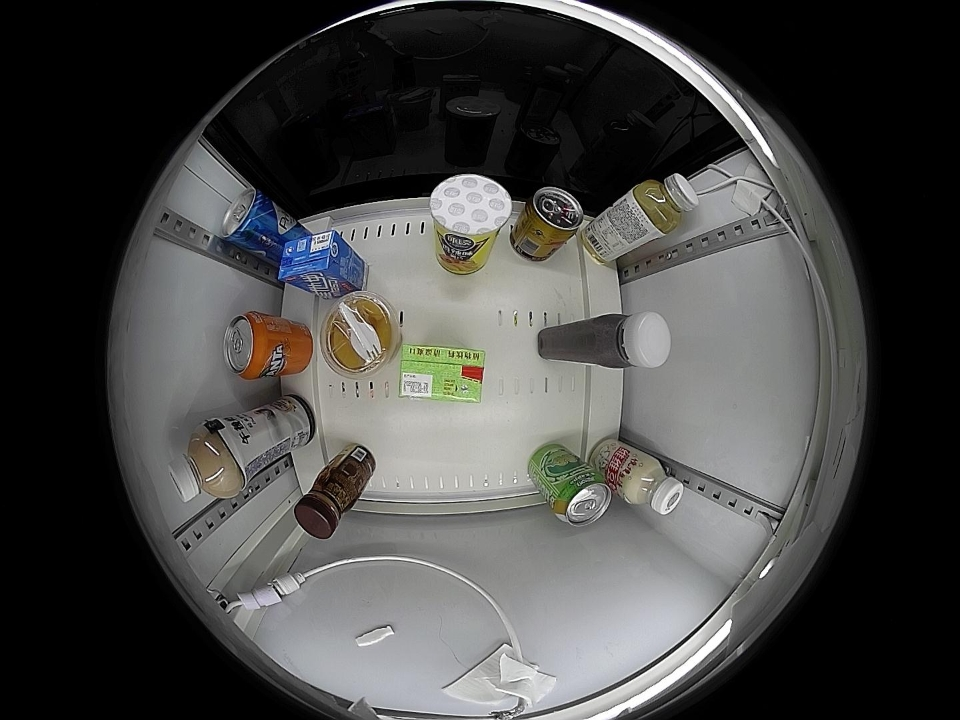chapai2: (635, 172, 699, 235)
fenda: (223, 312, 275, 380)
hongniu2: (521, 186, 585, 244)
kebike: (429, 174, 513, 250)
lujikafei: (294, 471, 360, 539)
qingdaowangzi-2: (220, 188, 276, 250)
quchenshixiangcao: (551, 470, 613, 527)
wanglaoji: (398, 344, 486, 403)
weitanai: (277, 229, 348, 287)
weiweidounai: (622, 456, 685, 515)
wuhounaicha: (167, 424, 242, 502)
xianguolao: (320, 293, 399, 378)
youyanggudong: (596, 311, 672, 370)
